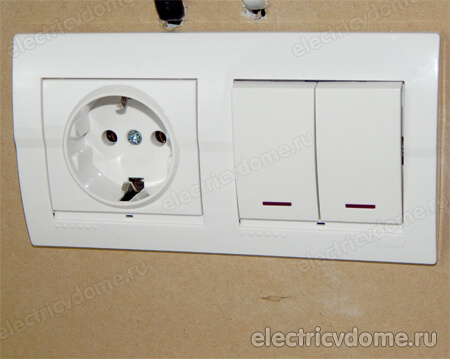raccoon: (64, 88, 176, 210)
